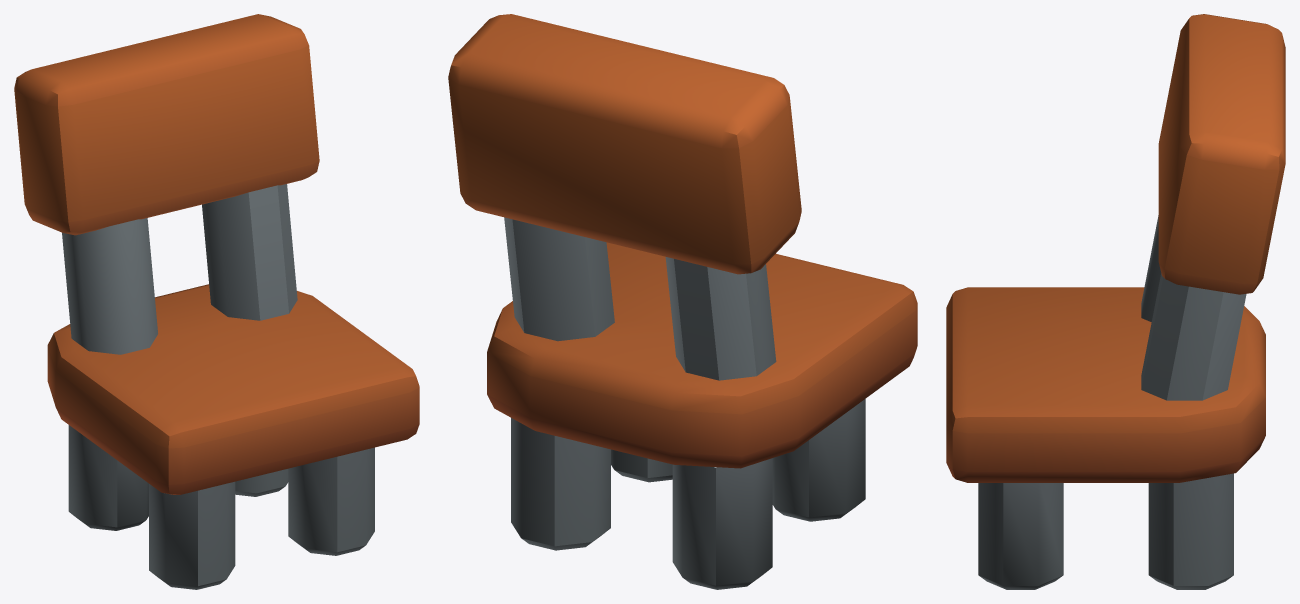
File: chair_A.glb
3 renders of one model, left to right at view 1: azimuth 30°, elevation 25°; view 2: azimuth 150°, elevation 25°; view 3: azimuth 270°, elevation 25°, orthographic. The views are drawn at different scales.
Parts seen in each view (by area): view 1: chair_A; view 2: chair_A; view 3: chair_A.
Part boxes in pixels (<box>): chair_A: <box>14,14,419,589</box>; chair_A: <box>448,14,917,589</box>; chair_A: <box>946,14,1285,589</box>.
Bounding box in the file's own units: 0.75 × 1.21 × 0.7963.
